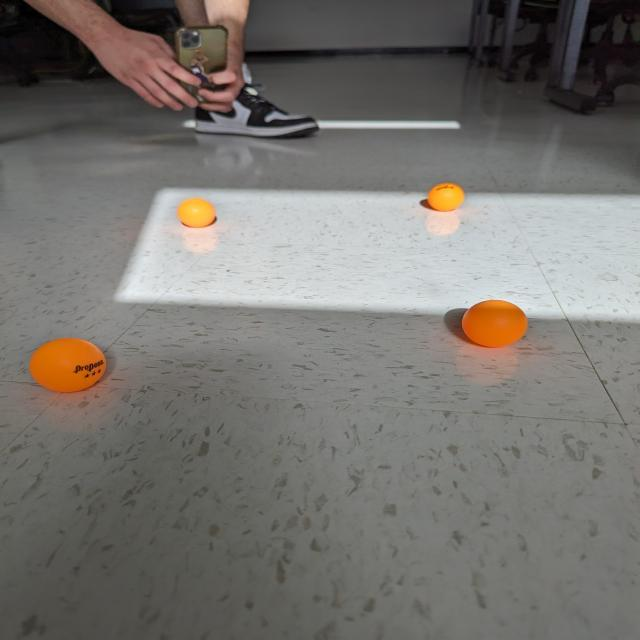ping-pong-ball: (26, 334, 110, 394), (456, 296, 533, 351), (176, 194, 218, 230), (424, 181, 467, 212)
